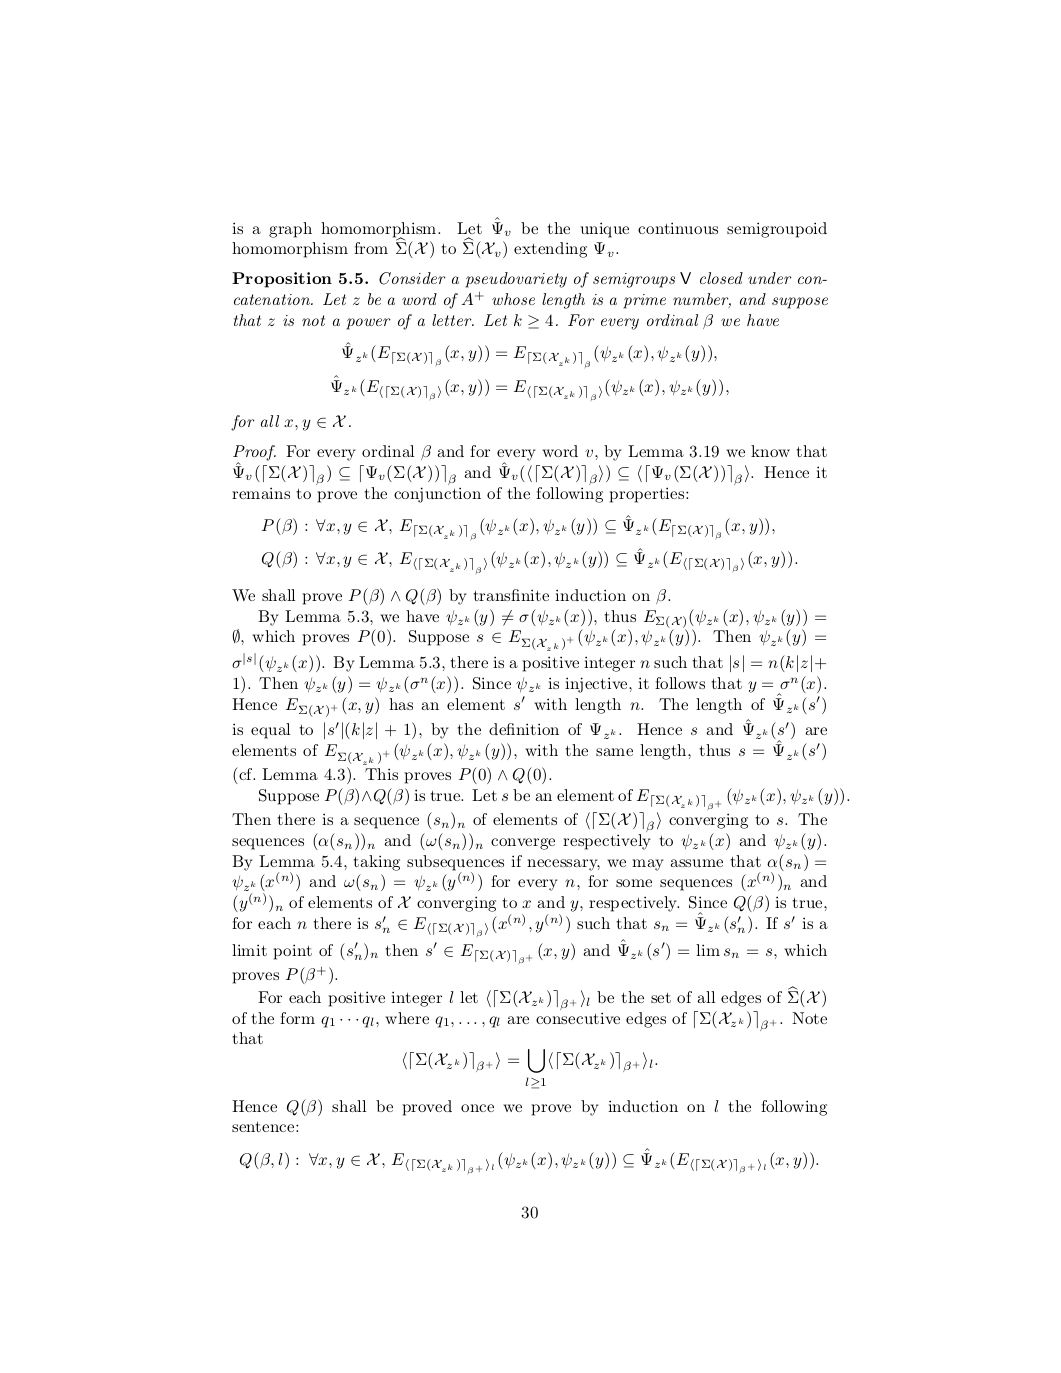formula: (261, 547, 797, 575), (261, 514, 773, 541), (239, 1151, 818, 1175), (331, 374, 728, 401), (342, 341, 716, 369), (403, 1049, 658, 1088)
